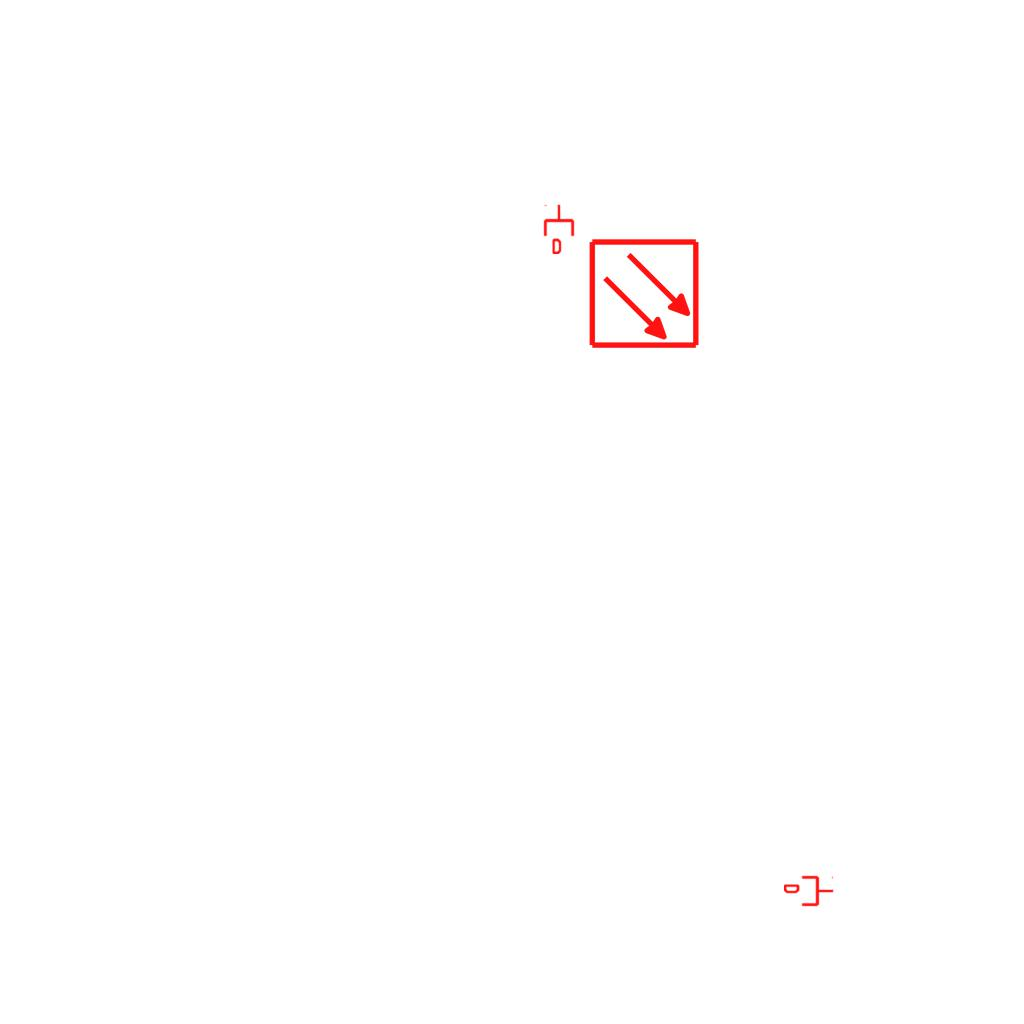Datenanschluss_einfach: (784, 874, 834, 908), (542, 204, 576, 254)
RMO_Rauchmelder_optischer: (588, 237, 701, 350)
